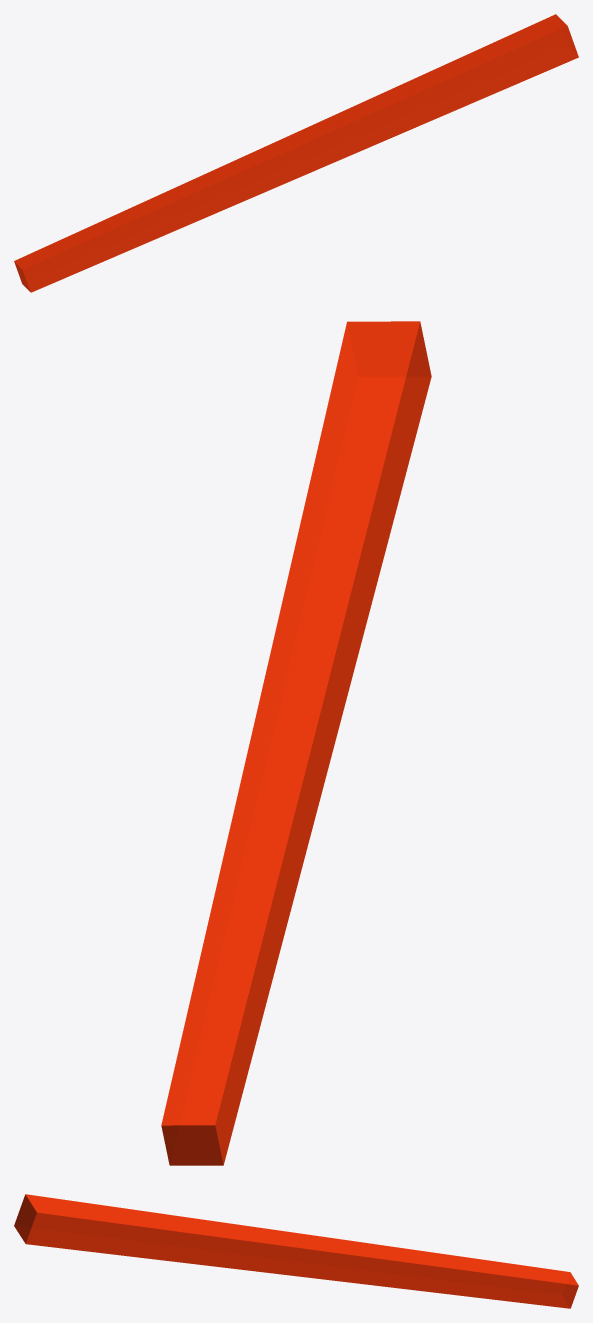
Rendered from Event_420604493_EBrechit_15.fbx.
3 views of the same model, one above another, from view 1: azimuth 90°, elevation 25°; view 2: azimuth 150°, elevation 25°; view 3: azimuth 270°, elevation 25° (orthographic). The views are drawn at different scales.
Parts seen in each view (by area): view 1: Model; view 2: Model; view 3: Model.
Part boxes in pixels (x1=…): Model: x1=14, y1=14, x2=578, y2=292; Model: x1=161, y1=321, x2=431, y2=1165; Model: x1=14, y1=1194, x2=578, y2=1308.
Bounding box in the file's own units: 0.4792 × 0.4253 × 1.17.
